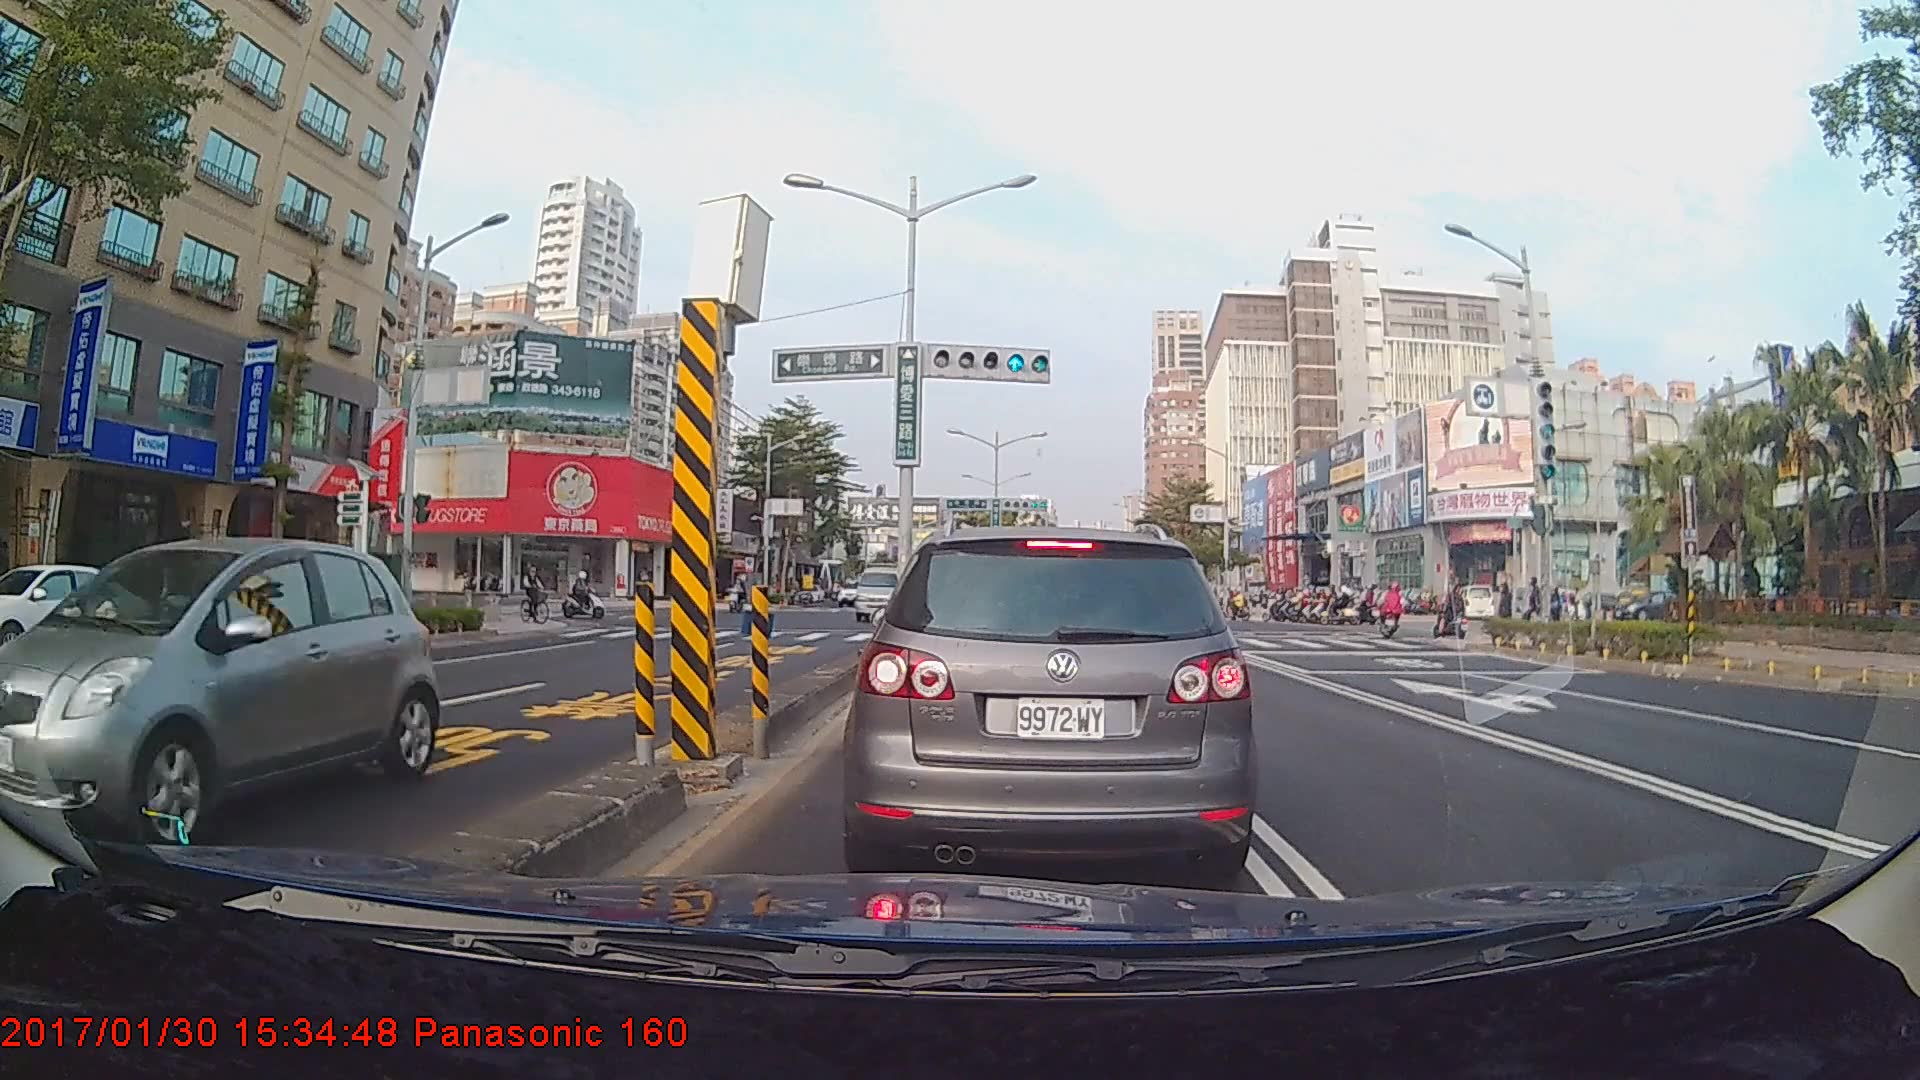pedestrian: (1494, 579, 1520, 637)
rider: (518, 559, 560, 629), (1436, 582, 1473, 646), (1382, 580, 1413, 640)
vehicle: (851, 521, 1250, 884), (0, 537, 443, 847), (0, 561, 158, 671), (851, 556, 908, 621)
